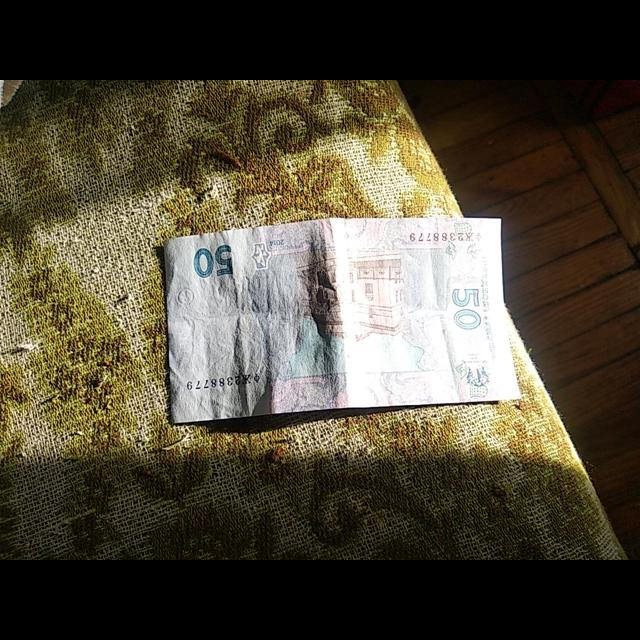50uah: (161, 216, 521, 423)
